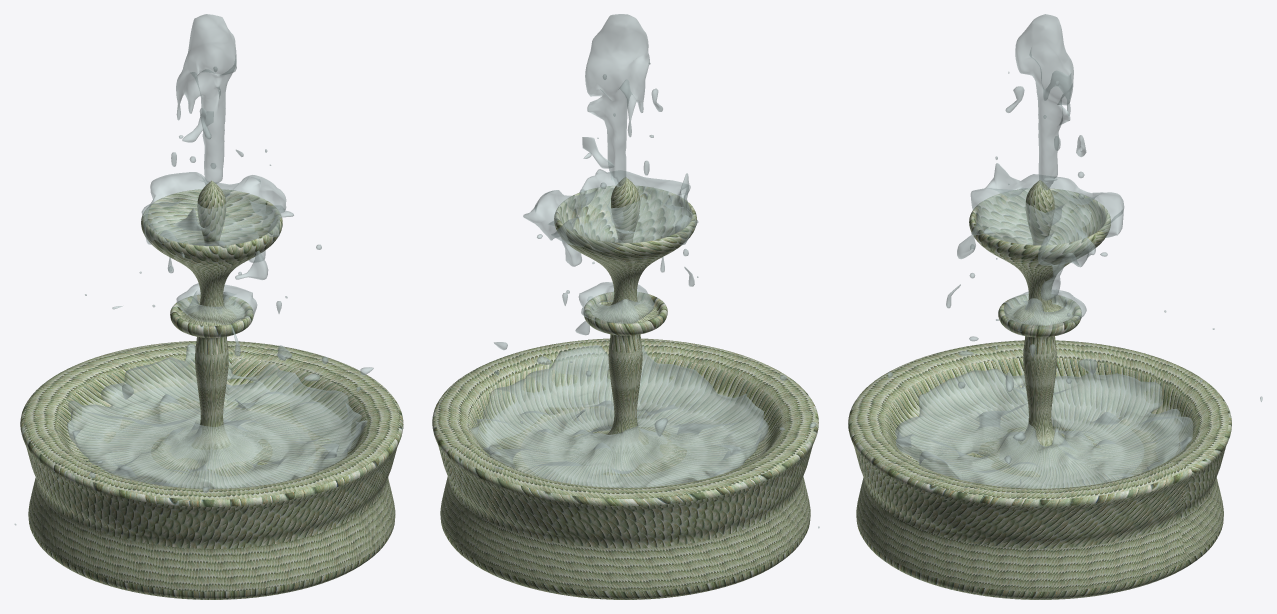
File: fountain2.fbx
3 views of the same model, side by side, from view 1: azimuth 30°, elevation 25°; view 2: azimuth 150°, elevation 25°; view 3: azimuth 270°, elevation 25° (orthographic).
Visible parts, largest first — view 1: fountain, Cube.001; view 2: fountain, Cube.001; view 3: fountain, Cube.001.
Part boxes in pixels (bbox=[...]): fountain: bbox=[20, 180, 403, 599]; Cube.001: bbox=[14, 14, 373, 525]; fountain: bbox=[432, 177, 818, 599]; Cube.001: bbox=[445, 14, 819, 528]; fountain: bbox=[848, 180, 1231, 599]; Cube.001: bbox=[887, 14, 1262, 488].
Size of what is drawn, in the model's own units: 157 by 215 by 156.
Materials: 2 (1 with a texture image).
